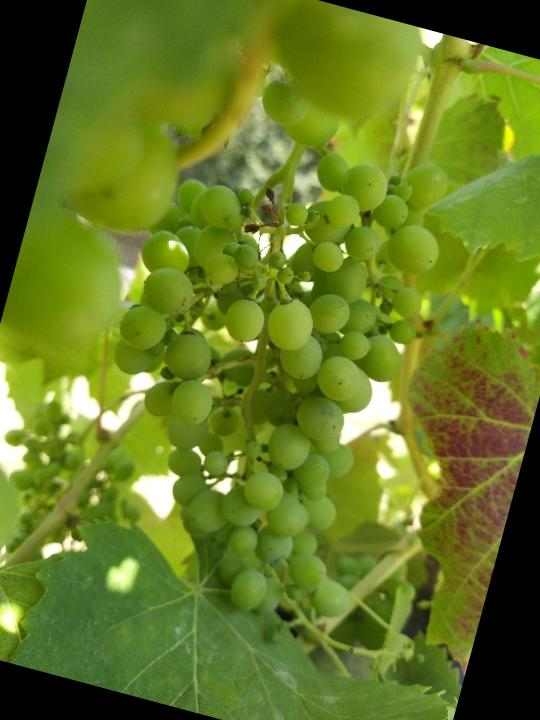grape: (41, 89, 468, 660)
